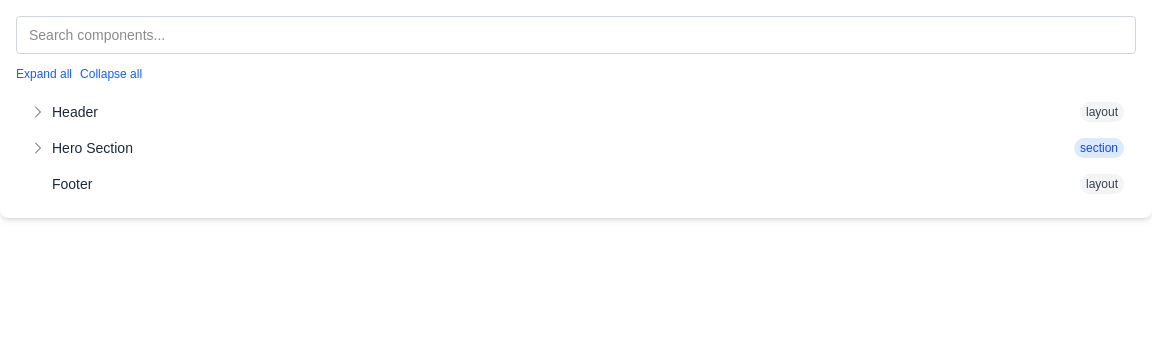
ComponentTree › collapses all nodes when collapse all is clicked
// First expand all
Click the button "Expand all" at (44, 74), box [16,66,72,82]
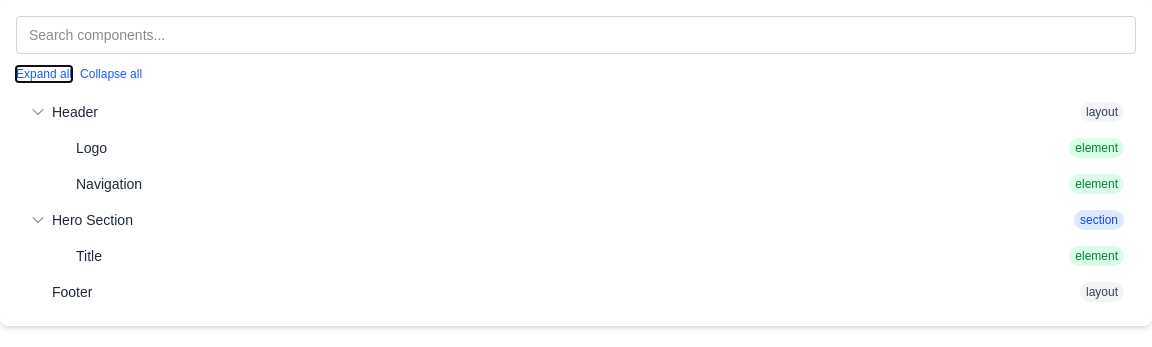
Now the button "Logo" is shown, box [76,138,1069,158]
// Then collapse all
Click the button "Collapse all" at (111, 74), box [80,66,142,82]
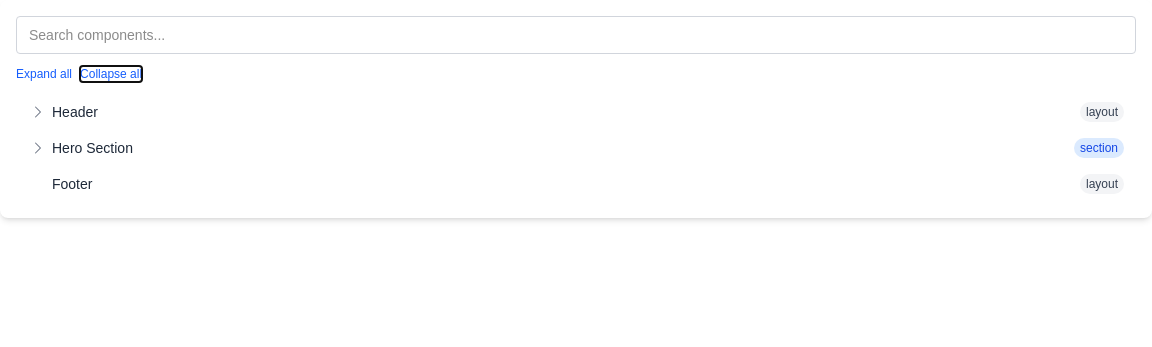
Now the button "Logo" is gone
Now the button "Navigation" is gone
Now the button "Title" is gone
